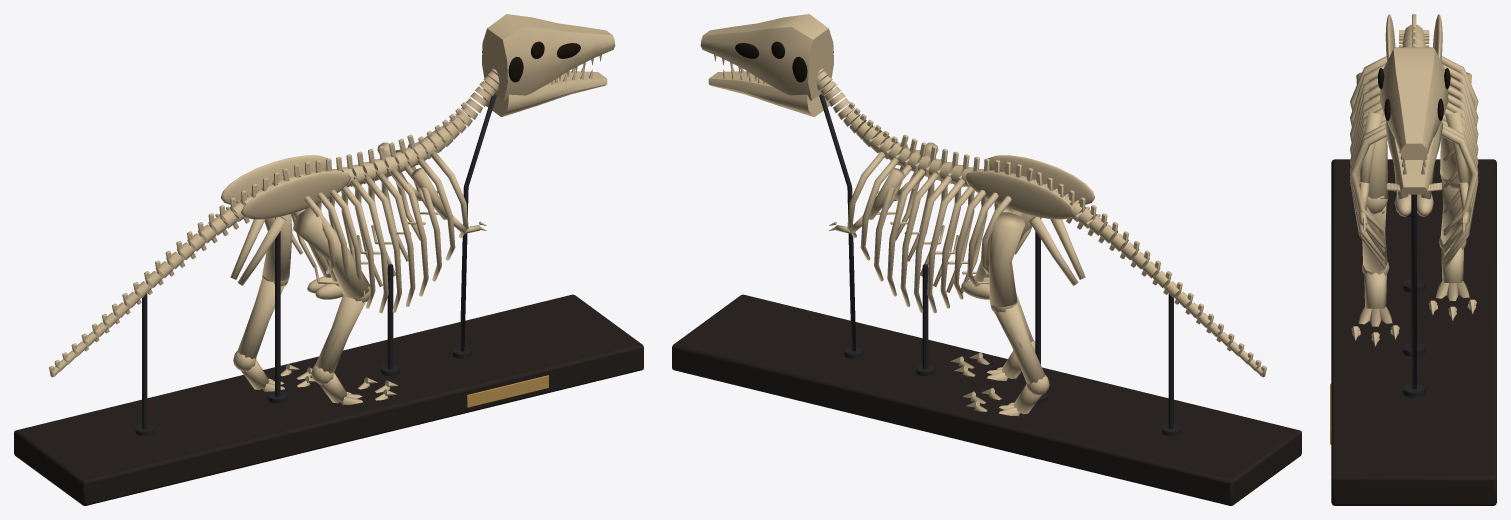
Rendered from dino.glb.
3 views of the same model, side by side, from view 1: azimuth 30°, elevation 25°; view 2: azimuth 150°, elevation 25°; view 3: azimuth 270°, elevation 25° (orthographic). The views are drawn at different scales.
Parts seen in each view (by area): view 1: dino_plinth, dino_bone, dino_steel, dino_brass, dino_socket; view 2: dino_plinth, dino_bone, dino_steel, dino_socket; view 3: dino_plinth, dino_bone, dino_steel, dino_socket.
Boxes of the visible parts, x1,y1,x2,y2 form: dino_plinth: [14, 294, 643, 505]; dino_bone: [49, 14, 615, 405]; dino_steel: [135, 94, 496, 436]; dino_brass: [467, 375, 548, 407]; dino_socket: [482, 41, 580, 82]; dino_plinth: [672, 294, 1301, 505]; dino_bone: [700, 14, 1266, 416]; dino_steel: [819, 94, 1180, 436]; dino_socket: [735, 41, 833, 82]; dino_plinth: [1331, 159, 1496, 505]; dino_bone: [1350, 14, 1478, 346]; dino_steel: [1403, 194, 1425, 397]; dino_socket: [1377, 68, 1450, 120].
Bounding box in the file's own units: 2.74 × 1.62 × 0.605.
